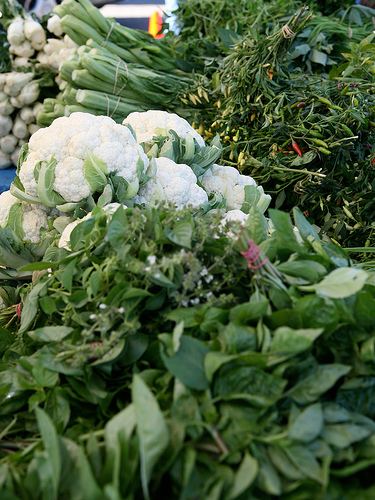cauliflower: (15, 111, 147, 205), (131, 160, 208, 226), (125, 105, 212, 161), (1, 170, 58, 247), (201, 160, 267, 215)
